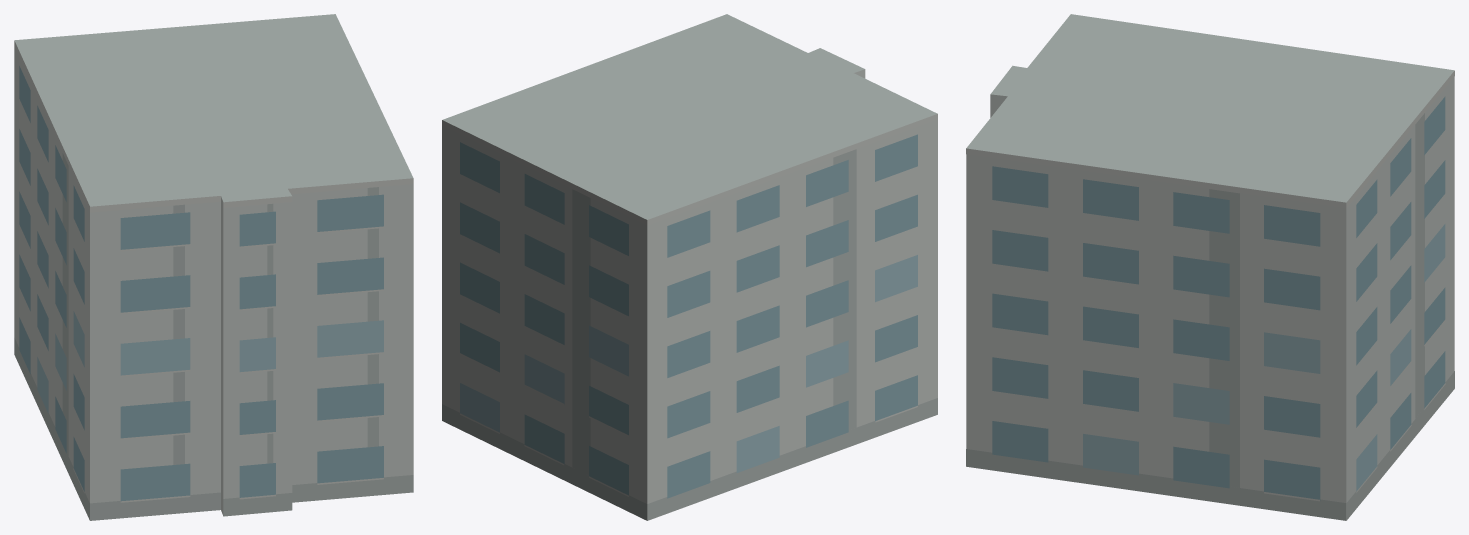
File: survey-upis-32528265.glb
The picture shows the model from 3 angles, left to right: view 1: azimuth 30°, elevation 25°; view 2: azimuth 150°, elevation 25°; view 3: azimuth 270°, elevation 25°; orthographic projection. The views are drawn at different scales.
Visible parts, largest first — view 1: survey-upis-32528265.tmp; view 2: survey-upis-32528265.tmp; view 3: survey-upis-32528265.tmp.
Part boxes in pixels (x1,y1,x2,y2): survey-upis-32528265.tmp: (14,14,413,520); survey-upis-32528265.tmp: (442,14,937,520); survey-upis-32528265.tmp: (966,14,1454,520).
Size of the model in its own units: 16.53 by 13 by 18.1.
